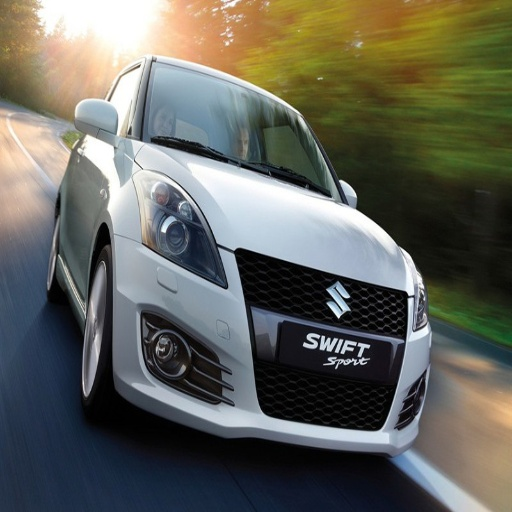front_bumper: (116, 242, 432, 453)
front_right_door: (63, 208, 88, 291)
front_right_light: (146, 177, 225, 286)
hood: (203, 169, 414, 293)
